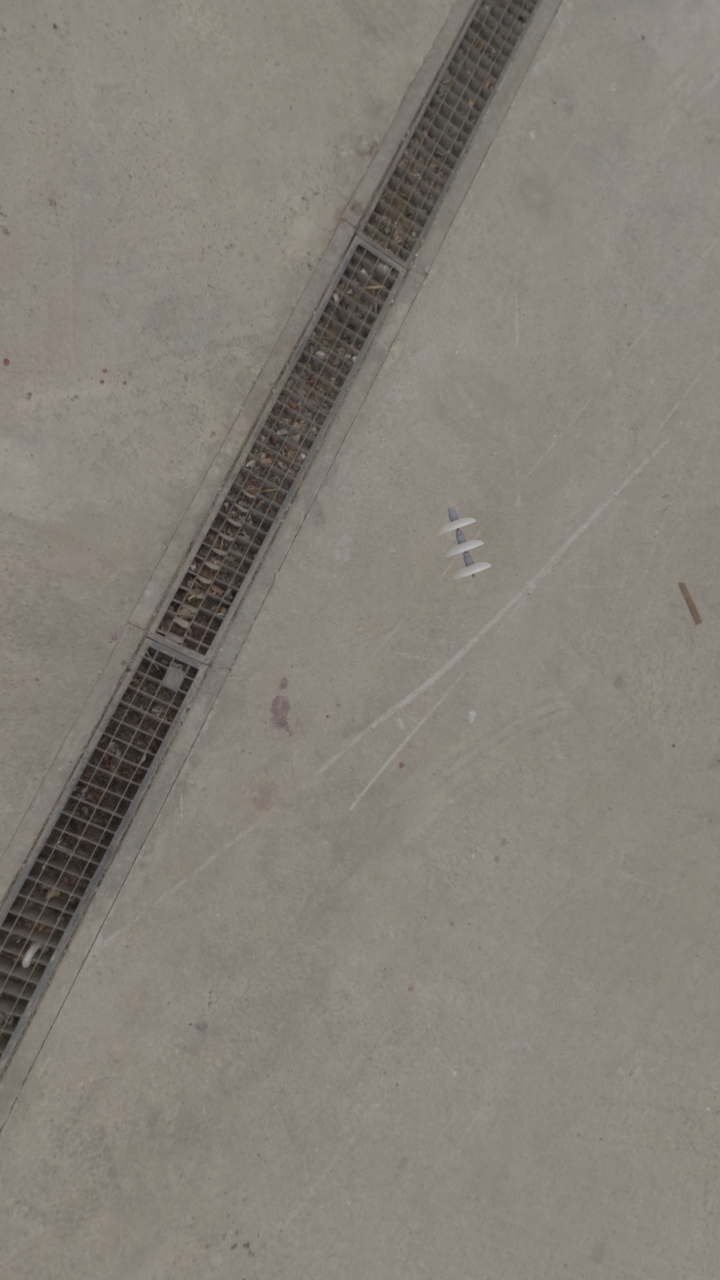ceramicinsulators: (439, 506, 491, 579)
